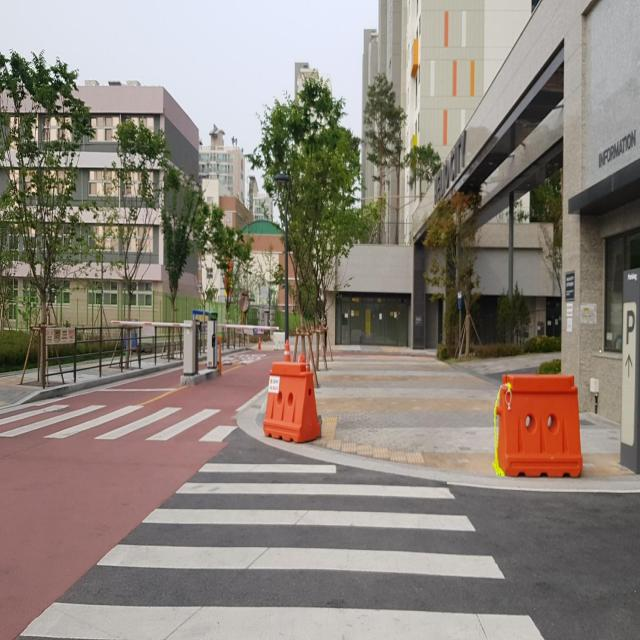횡단보도: (17, 458, 550, 640), (0, 390, 249, 446)
